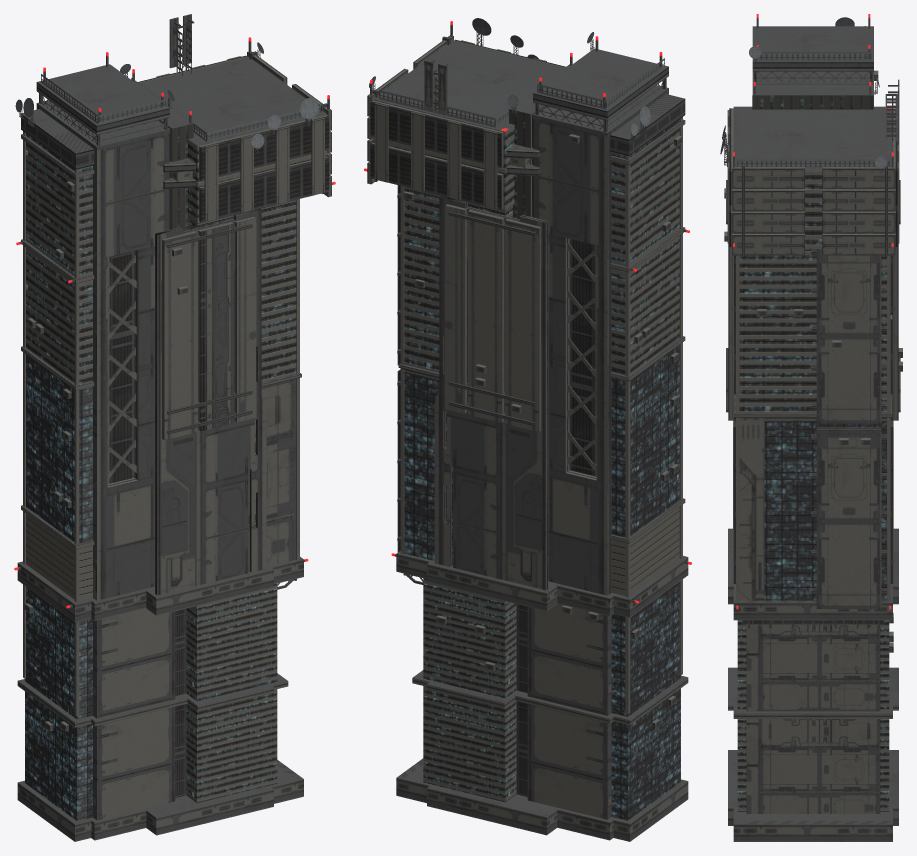
The model's file is Skyscraper_03.gltf.
3 renders of one model, left to right at view 1: azimuth 30°, elevation 25°; view 2: azimuth 150°, elevation 25°; view 3: azimuth 270°, elevation 25°, orthographic. The views are drawn at different scales.
Visible parts, largest first — view 1: Skyscraper_03; view 2: Skyscraper_03; view 3: Skyscraper_03.
Part boxes in pixels (x1,y1,x2,y2): Skyscraper_03: [14, 14, 335, 841]; Skyscraper_03: [364, 18, 691, 841]; Skyscraper_03: [720, 14, 902, 841].
Size of the model in its own units: 38.4 by 105 by 23.61.
Materials: 2 (2 with a texture image).
